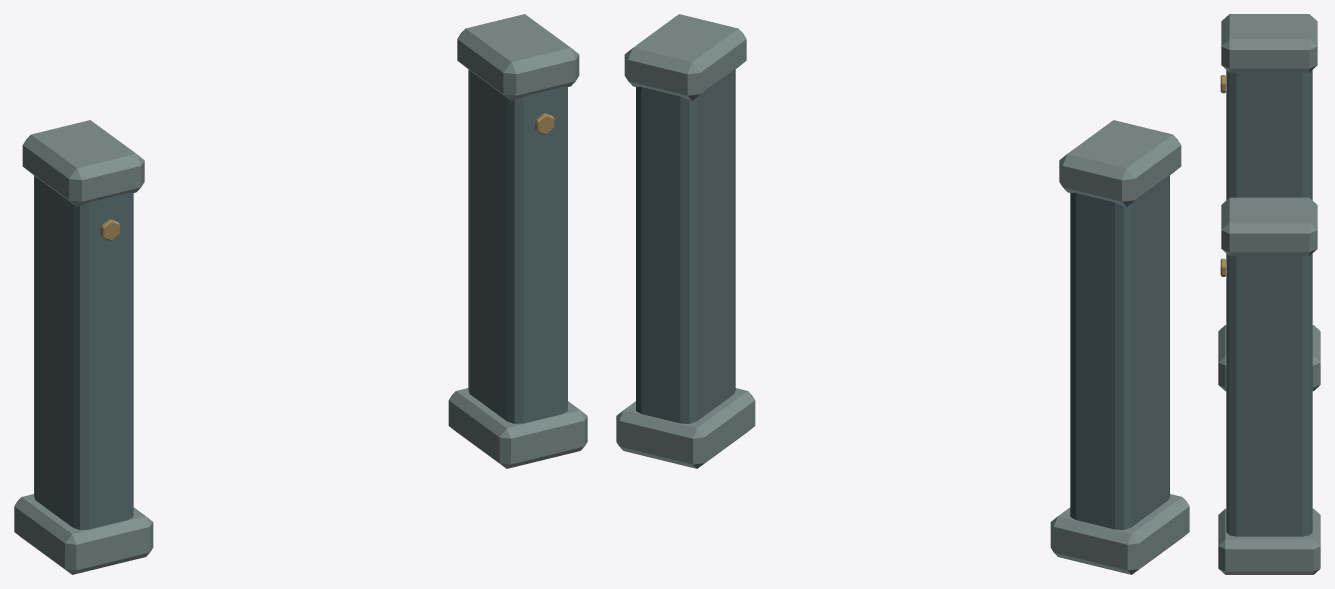
The model's file is victory_gate_frame.glb.
The picture shows the model from 3 angles, left to right: view 1: azimuth 30°, elevation 25°; view 2: azimuth 150°, elevation 25°; view 3: azimuth 270°, elevation 25°; orthographic projection. The views are drawn at different scales.
Visible parts, largest first — view 1: VictoryFrame; view 2: VictoryFrame; view 3: VictoryFrame.
Boxes of the visible parts, x1,y1,x2,y2 form: VictoryFrame: (14,14,587,574); VictoryFrame: (616,14,1189,574); VictoryFrame: (1218,14,1320,574).
Size of the model in its own units: 5.1 by 3.76 by 1.
